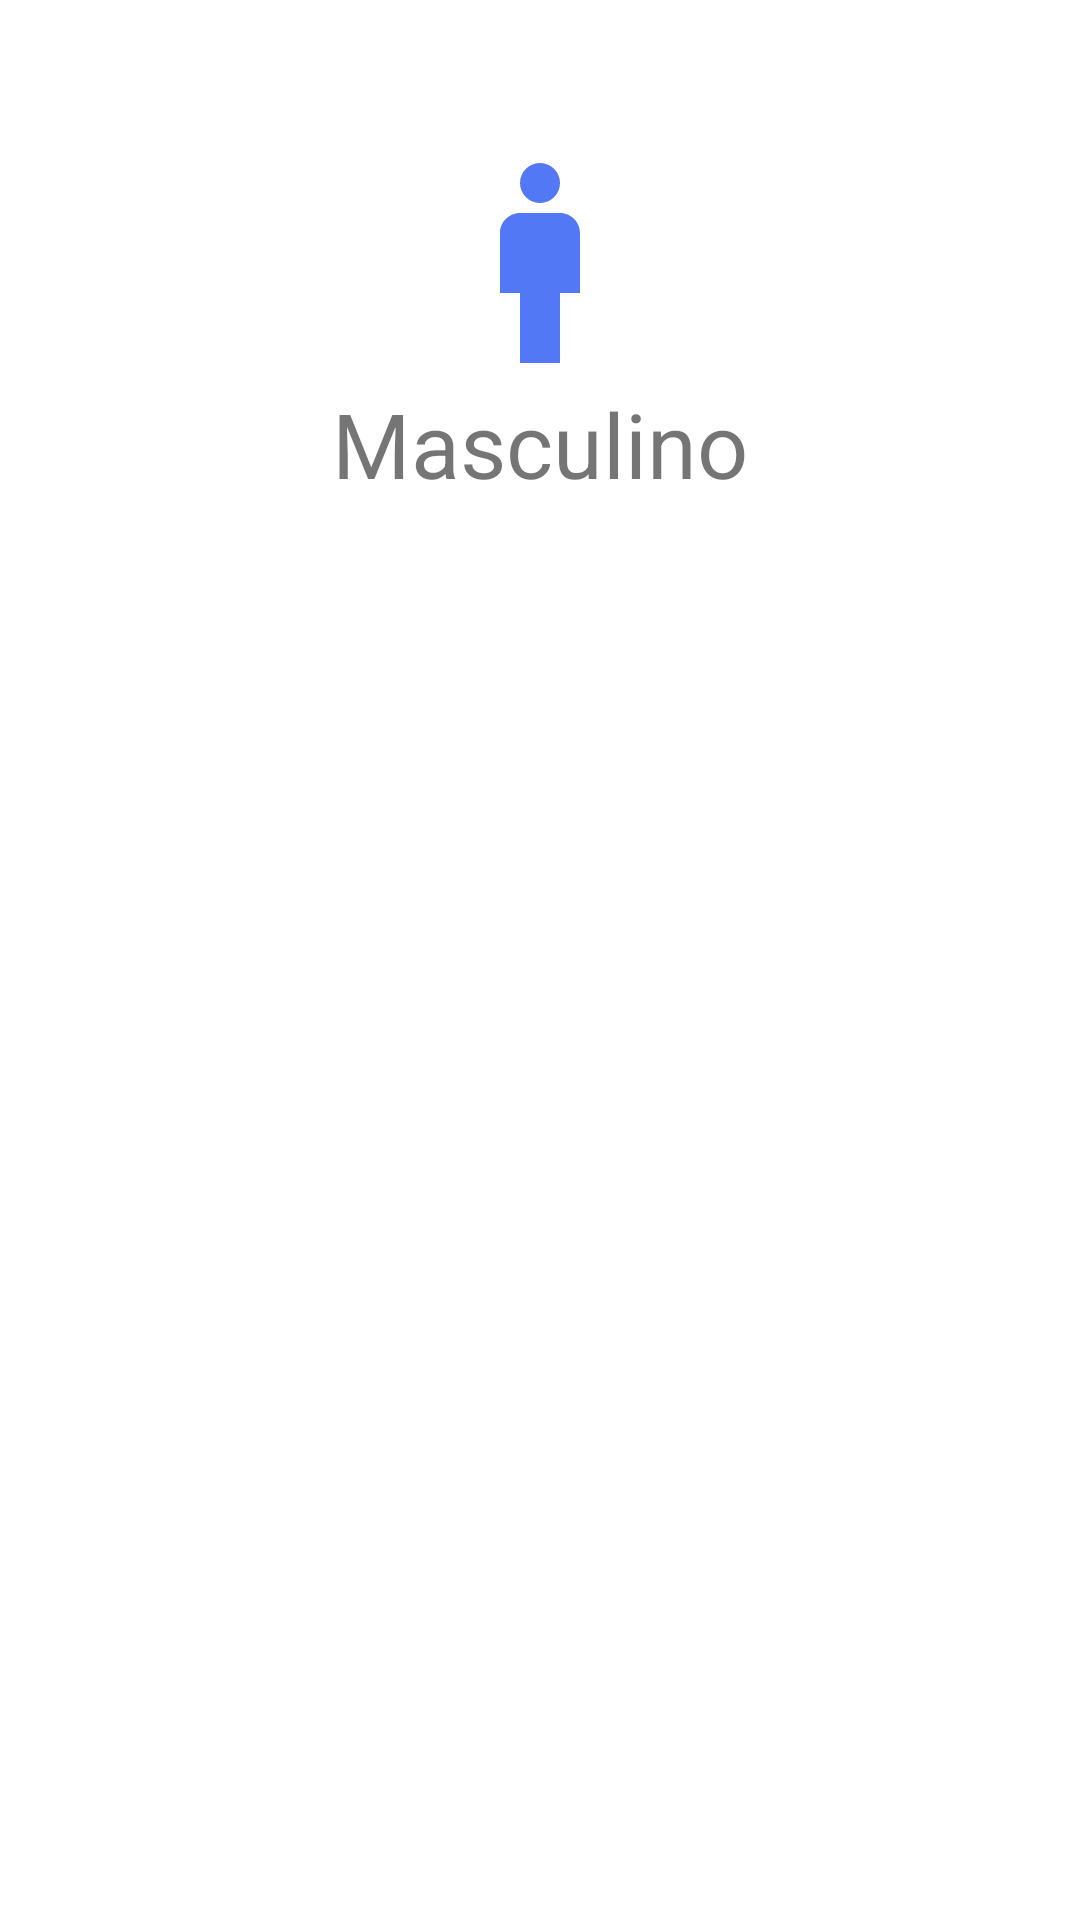

Where icons sit on this 1080x1920 app screen, as (x1, y1, x2, y2):
man: (500, 163, 580, 363)
